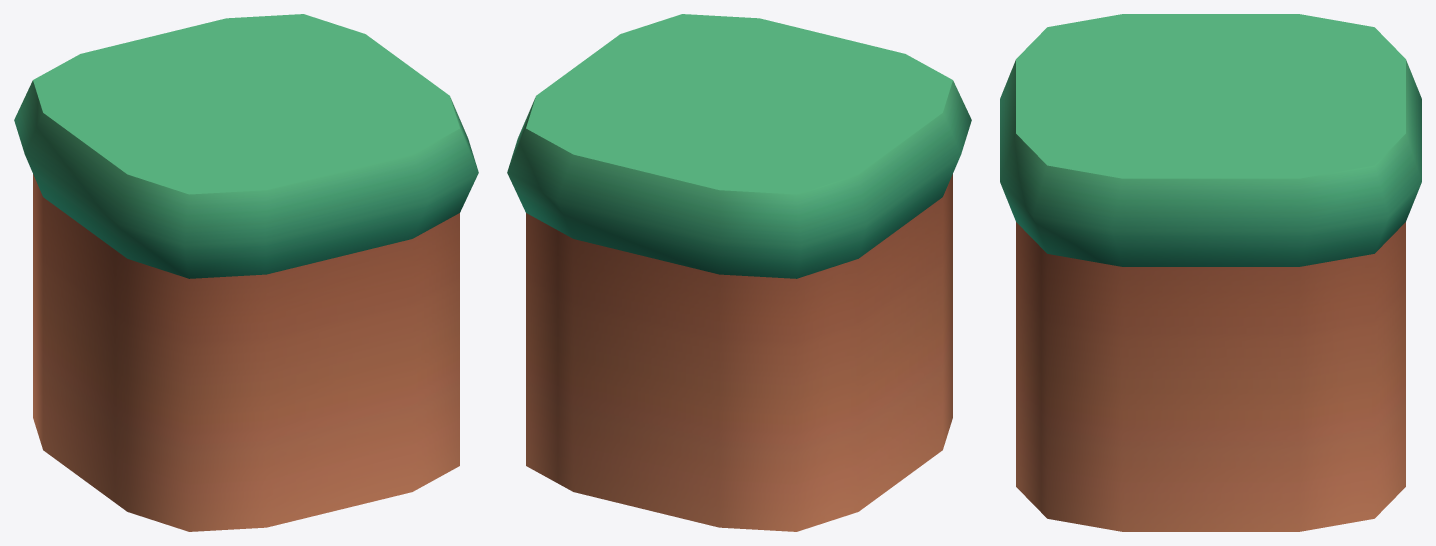
The model's file is kenney-platformer-block-grass.glb.
3 renders of one model, left to right at view 1: azimuth 30°, elevation 25°; view 2: azimuth 150°, elevation 25°; view 3: azimuth 270°, elevation 25°, orthographic. The views are drawn at different scales.
Visible parts, largest first — view 1: block-grass; view 2: block-grass; view 3: block-grass.
Part boxes in pixels (x1=…): block-grass: x1=14, y1=14, x2=478, y2=531; block-grass: x1=507, y1=14, x2=971, y2=531; block-grass: x1=1000, y1=14, x2=1421, y2=531.
Bounding box in the file's own units: 1.08 × 1 × 1.08.
1 material, 1 textured.
